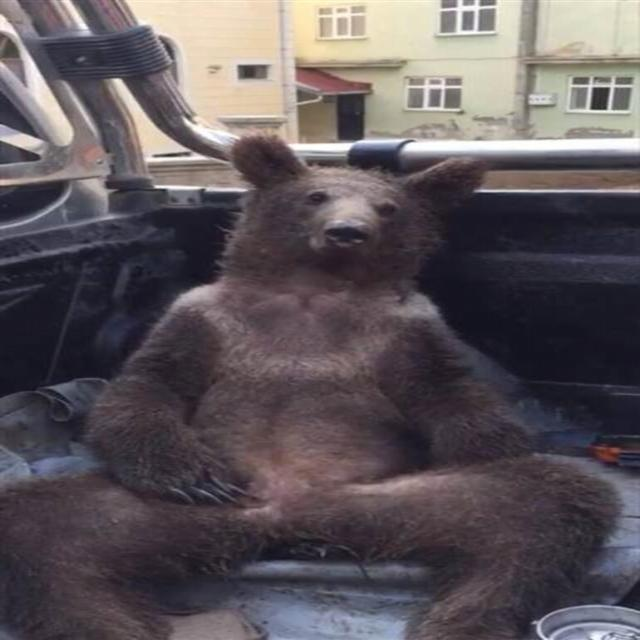Bear: (0, 135, 621, 640)
